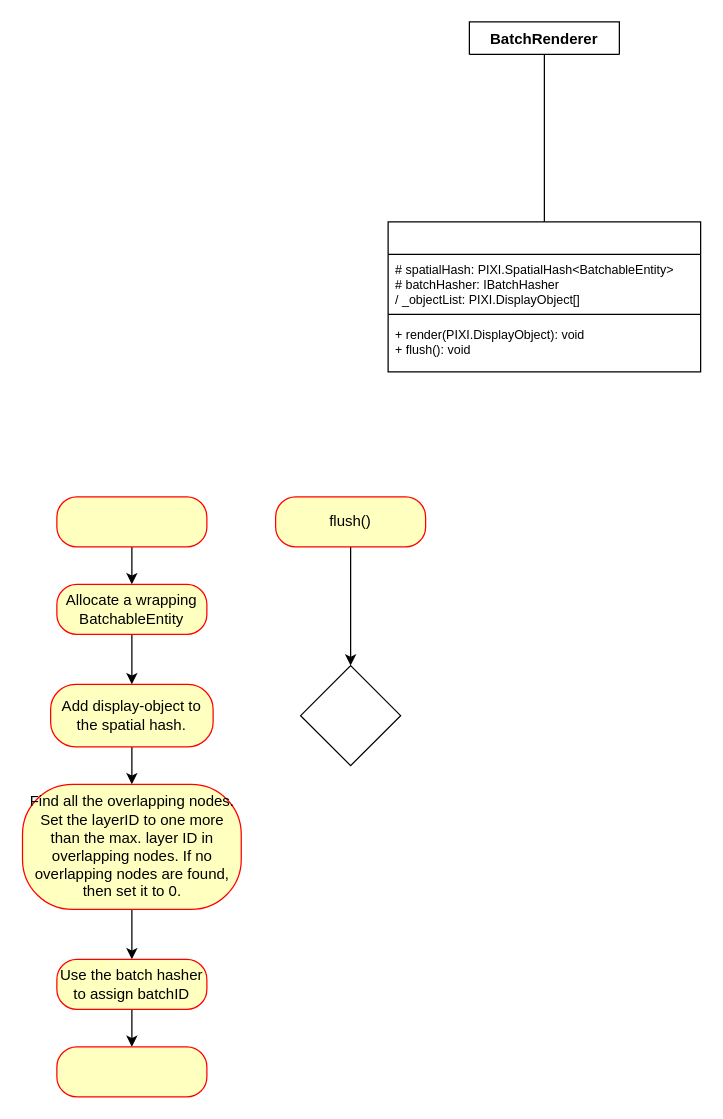
The diagram is 723 pixels wide and 1119 high, and some of its shapes have lost their labels. Each missing label, with the box of its shape:
OooRenderer: (387, 221, 701, 372)
Push object into _objectBuffer.: (56, 1046, 207, 1097)
render(): (56, 496, 207, 547)
